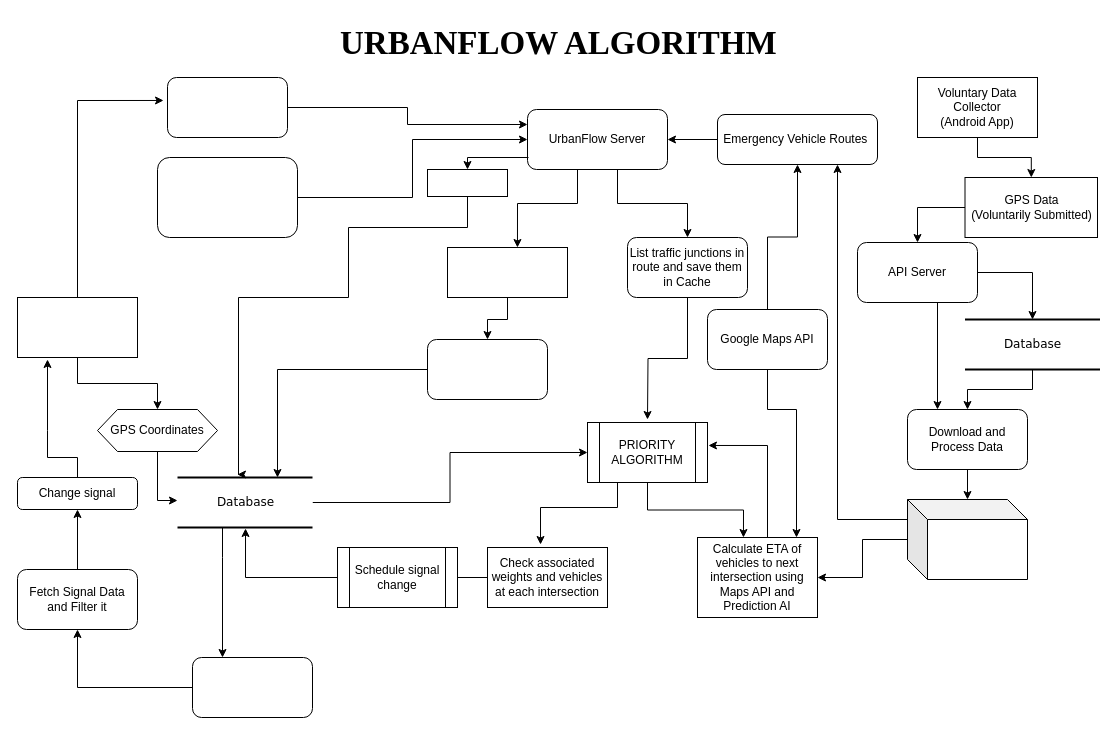
This 1118x735 diagram has some shape labels left out. The shapes that lost their labels are listed below. From the top down, each one's box as (x1, y1, x2, y2) in pixels, then its label:
(166, 76, 288, 138): Live Traffic Signal Status Data (every 30 secs)
(156, 156, 298, 238): Live GPS Data from App installed in Emergency Vehicle Drivers phones
(426, 168, 508, 196): All Data
(446, 246, 568, 298): Check if a vehicle is close to an intersection
(16, 296, 138, 358): TRAFFIC SIGNALS
(426, 338, 548, 400): Assign a Priority Score to each vehicle based on its type
(906, 498, 1028, 580): Vehicle Route Prediction AI (ML Model)
(192, 656, 312, 718): Update JSON page with new signals
